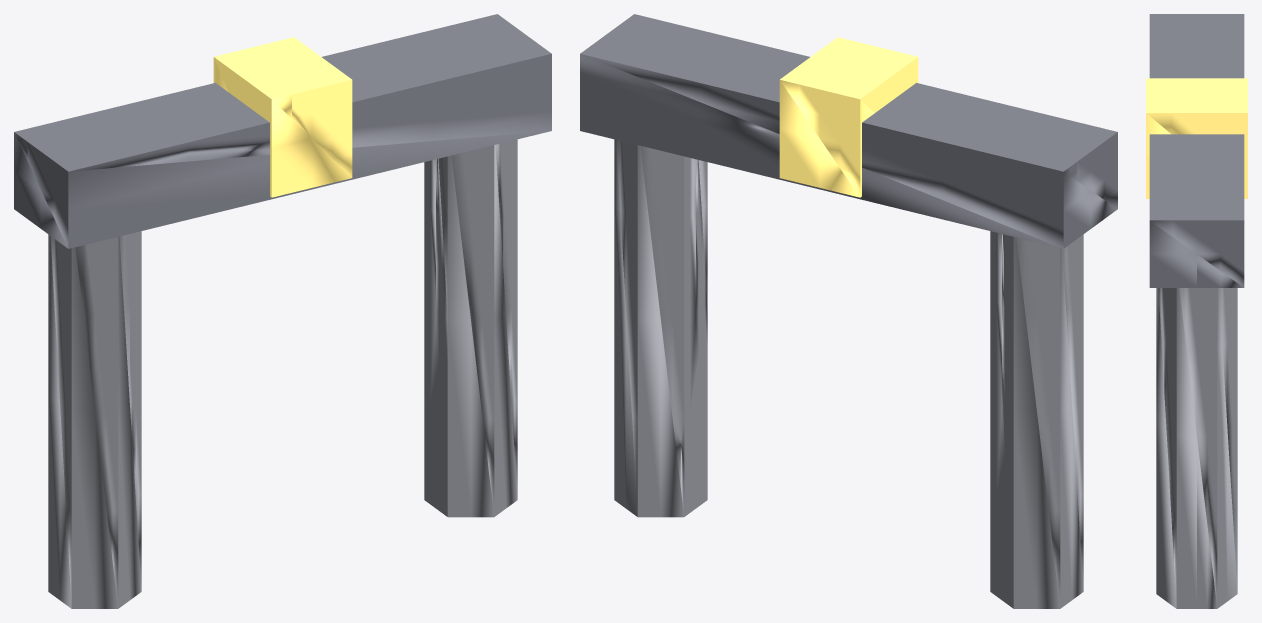
File: dungeon_arch.glb
The picture shows the model from 3 angles, left to right: view 1: azimuth 30°, elevation 25°; view 2: azimuth 150°, elevation 25°; view 3: azimuth 270°, elevation 25°; orthographic projection. The views are drawn at different scales.
Parts seen in each view (by area): view 1: ArchLeft; view 2: ArchLeft; view 3: ArchLeft.
Part boxes in pixels (x1,y1,x2,y2): ArchLeft: [14, 14, 551, 608]; ArchLeft: [580, 14, 1117, 608]; ArchLeft: [1146, 14, 1247, 608].
Size of the model in its own units: 3.6 by 3.4 by 0.75.
